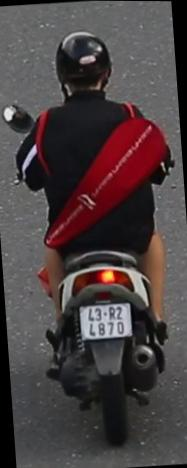LP: (77, 298, 136, 342)
helmet: (49, 24, 116, 104)
